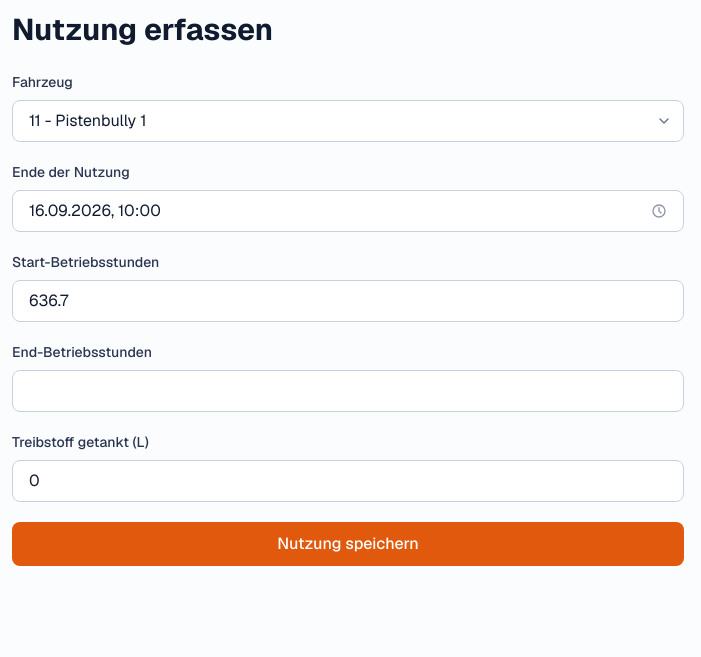
Nutzung erfassen › input validation › shows the driven distance in km for other vehicles
Expected: the number field with id "startOperatingHours" is enabled, [12,280,684,322]
Expected: the number field with id "startOperatingHours" is not empty, [12,280,684,322]
Step 1. Select "Transporter" in the dropdown labelled "Fahrzeug" → (348, 121), box [12,100,684,142]
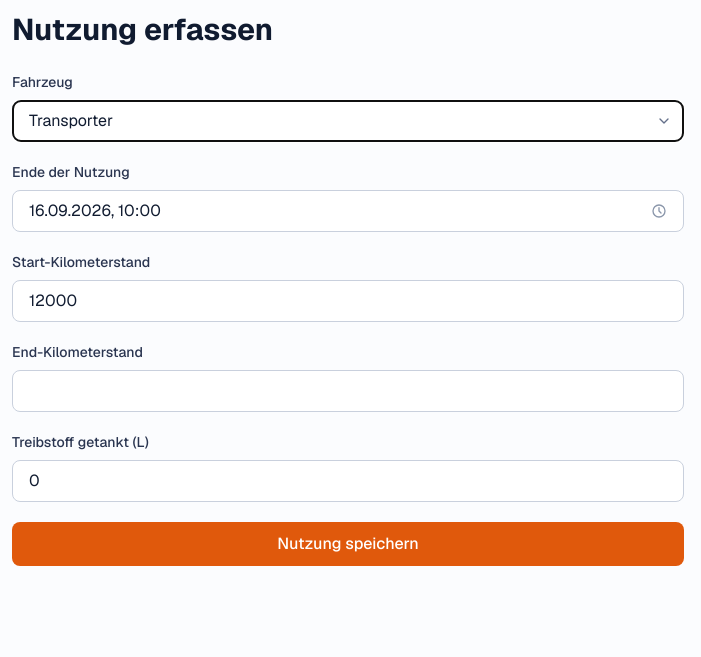
Now the number field with id "startOperatingHours" holds "12000", box [12,280,684,322]
Step 2. Type "12120" into the number field with id "endOperatingHours" → (348, 391), box [12,370,684,412]
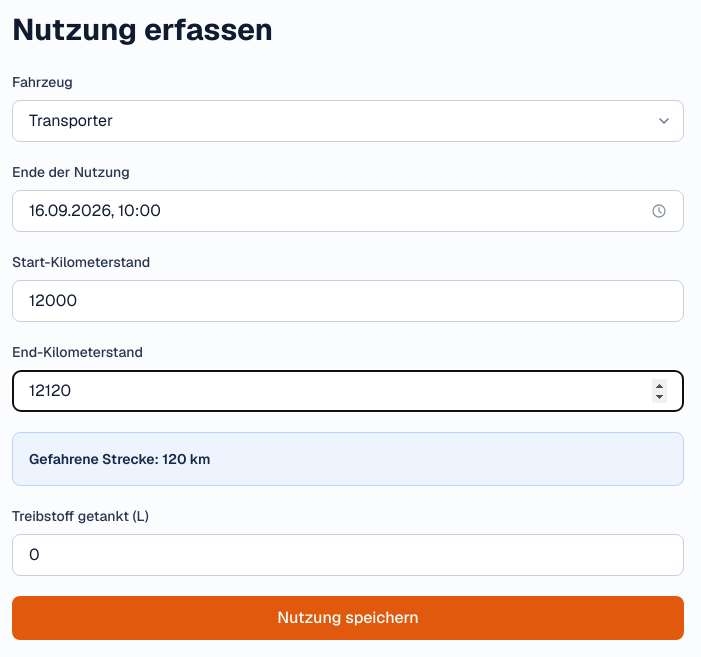
Now the text "Gefahrene Strecke: 120 km" is shown, box [29,450,211,468]
